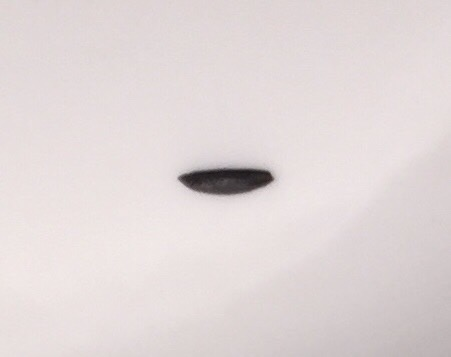Gao Nep Cam: (177, 161, 274, 201)
